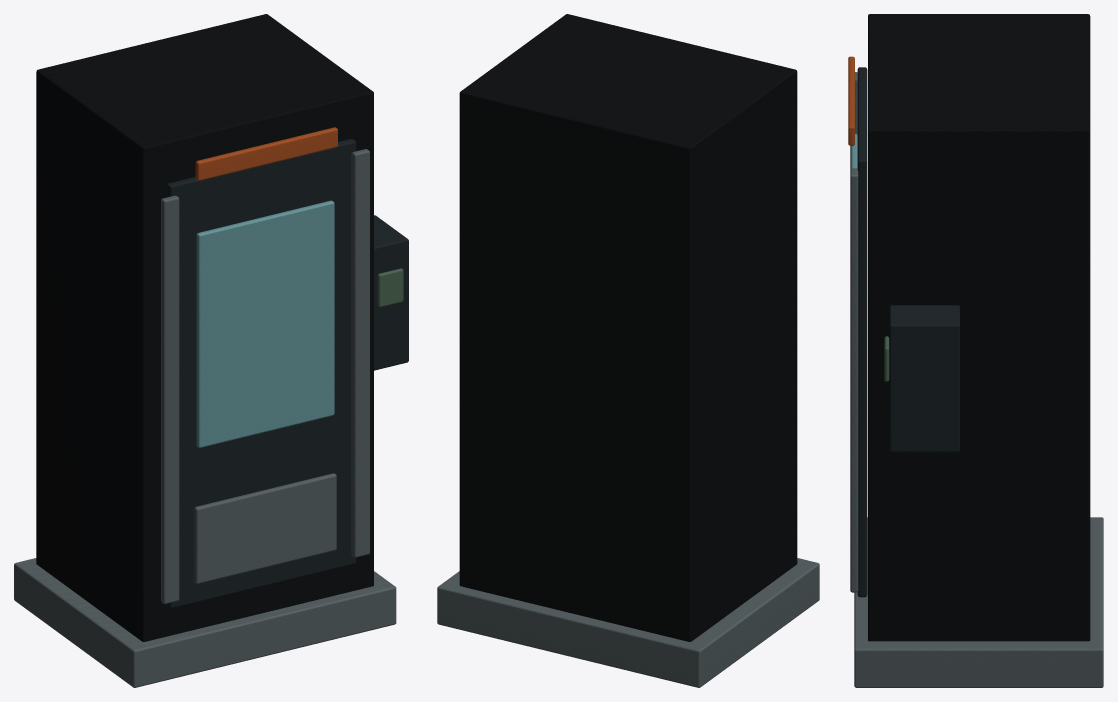
File: CryoPod.fbx
3 renders of one model, left to right at view 1: azimuth 30°, elevation 25°; view 2: azimuth 150°, elevation 25°; view 3: azimuth 270°, elevation 25°, orthographic. The views are drawn at different scales.
Parts seen in each view (by area): view 1: CryoPod_Mesh; view 2: CryoPod_Mesh; view 3: CryoPod_Mesh.
Part boxes in pixels (bbox=[...]): CryoPod_Mesh: bbox=[14, 14, 408, 687]; CryoPod_Mesh: bbox=[437, 14, 819, 687]; CryoPod_Mesh: bbox=[848, 14, 1103, 687].
Size of the model in its own units: 129 by 224 by 94.25.
6 materials, 6 textured.
